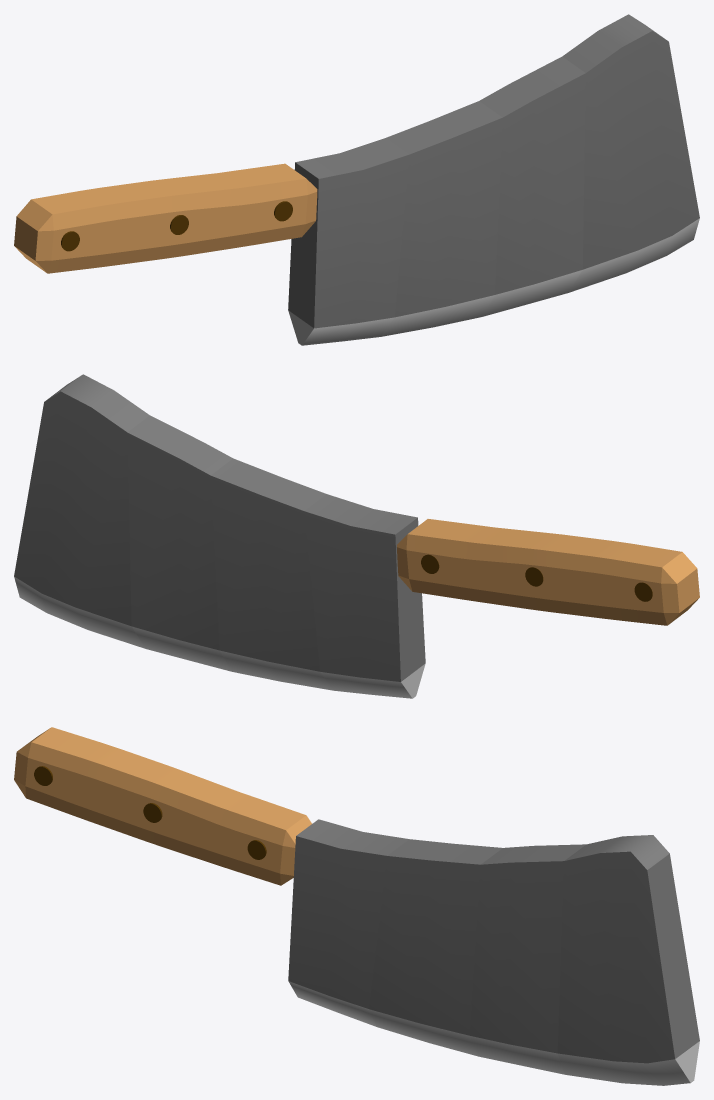
Rendered from kknife.fbx.
3 renders of one model, top to bottom at view 1: azimuth 30°, elevation 25°; view 2: azimuth 150°, elevation 25°; view 3: azimuth 330°, elevation 25°, orthographic.
Parts seen in each view (by area): view 1: polySurface7; view 2: polySurface7; view 3: polySurface7.
Boxes of the visible parts, x1,y1,x2,y2 form: polySurface7: (14, 14, 699, 345); polySurface7: (14, 374, 699, 698); polySurface7: (14, 727, 699, 1085).
Size of the model in its own units: 7.8 by 2.81 by 0.6091.
